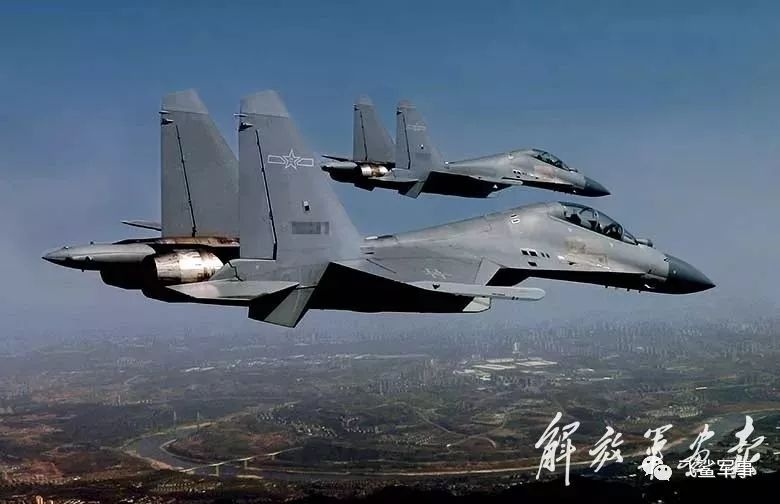airplane: (38, 94, 718, 324), (307, 104, 610, 199)
